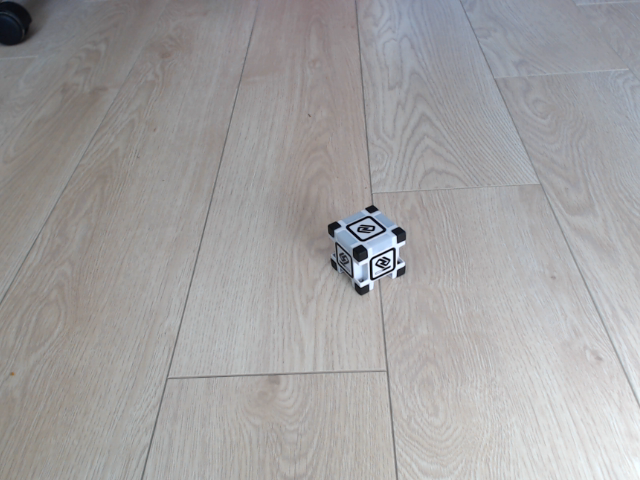block: (328, 205, 408, 297)
